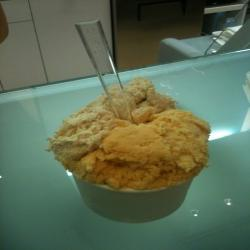icecream: (52, 69, 212, 202)
